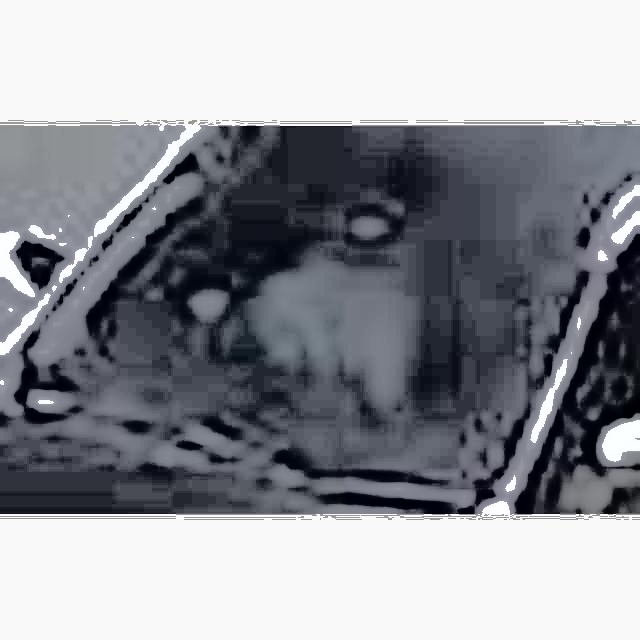pakai: (201, 205, 431, 414)
